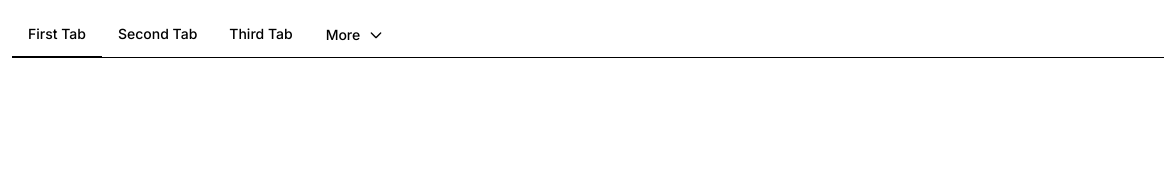
Test: TabNavigation › Overflow tabs (More menu) › opens the dropdown and shows overflow tabs when More is clicked
The width and height of the screenshot is (1164, 172).
What coordinates should you click on to do the following:
click the button with test id "tab-more"
I would click on:
 (355, 36)
Its box is [309,12,401,59].
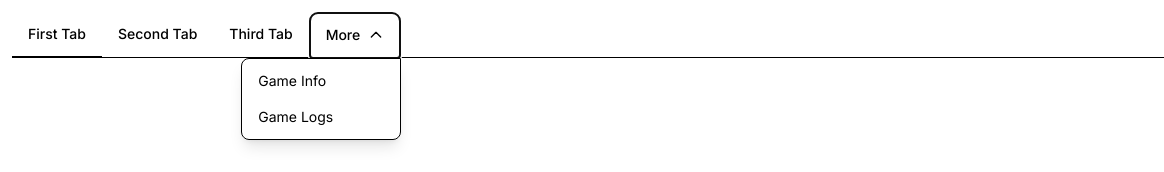
expect the button with test id "tab-info" is shown: met, box [242,63,400,99]
expect the button with test id "tab-logs" is shown: met, box [242,99,400,135]
